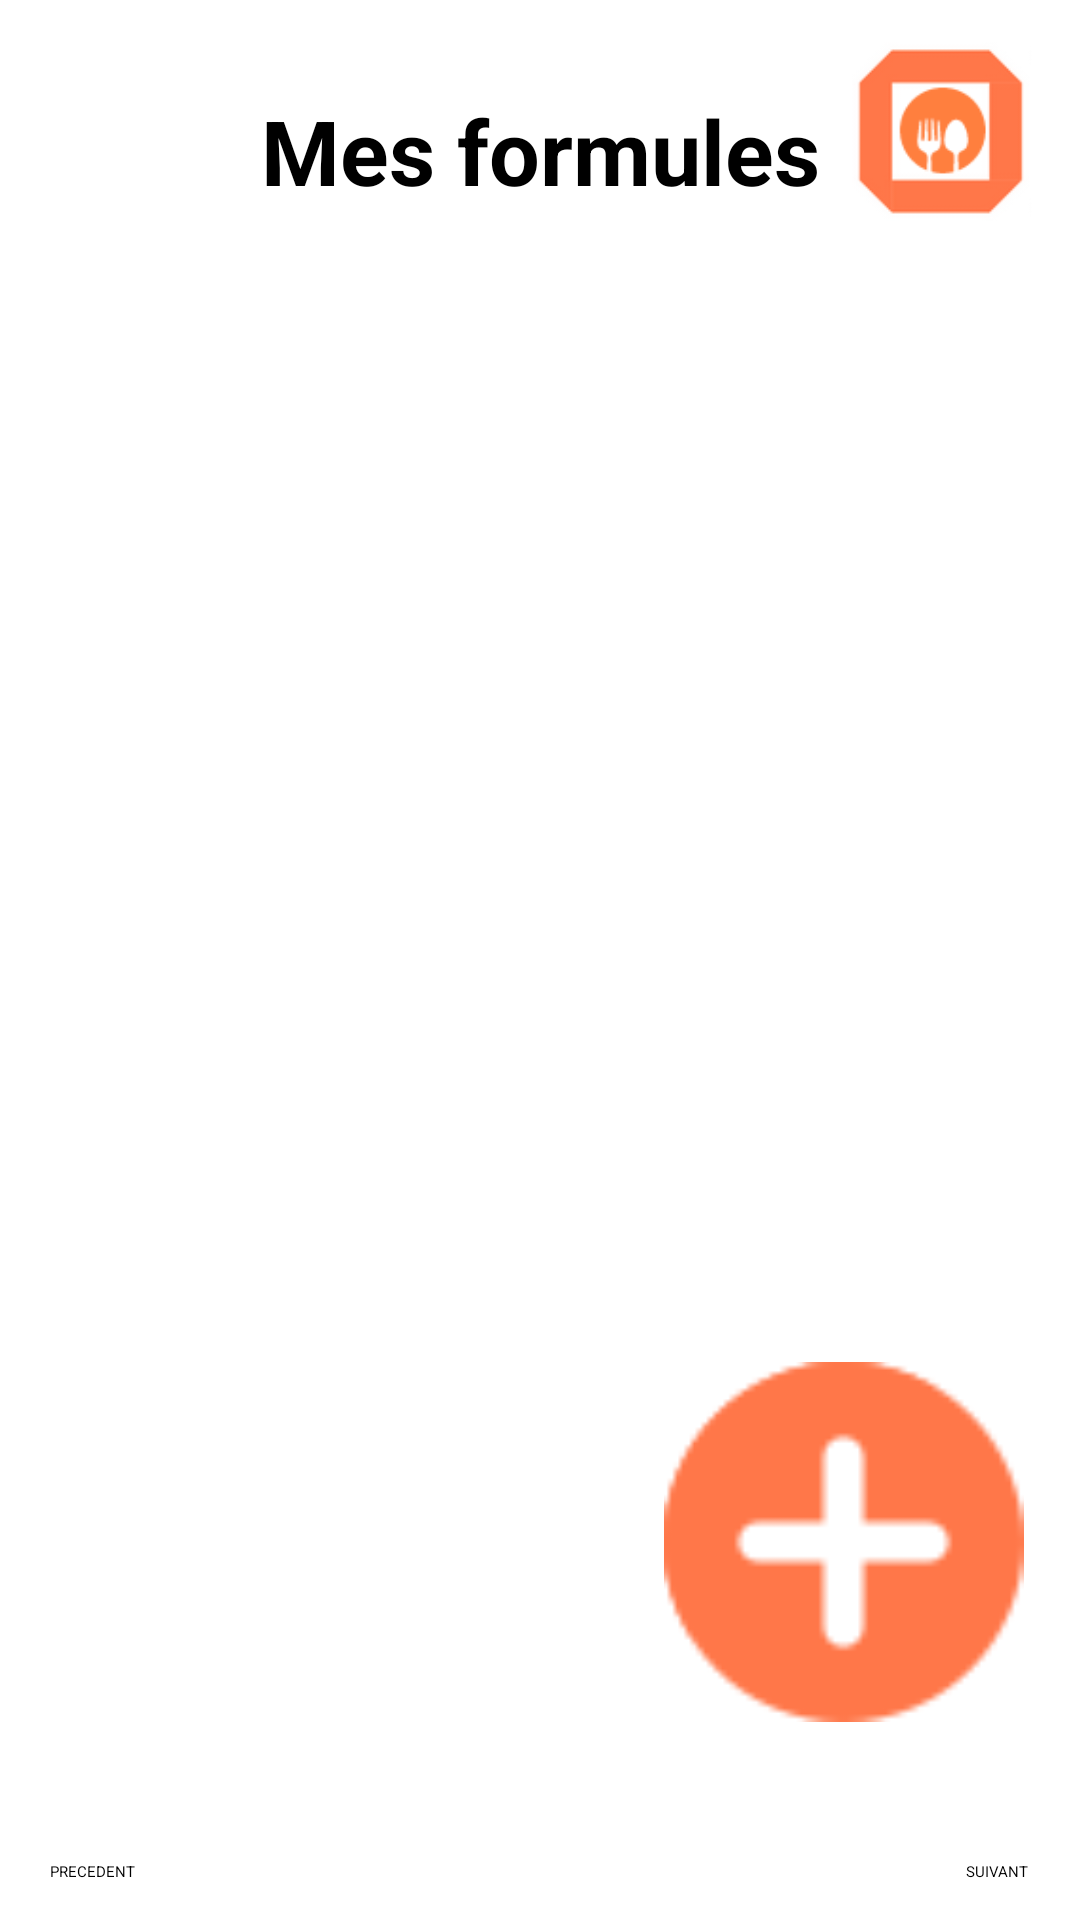

Where icons sit on this 1080*1920 app screen, as detection(x1, y1, x2, y2):
plus: detection(664, 1362, 1024, 1722)
